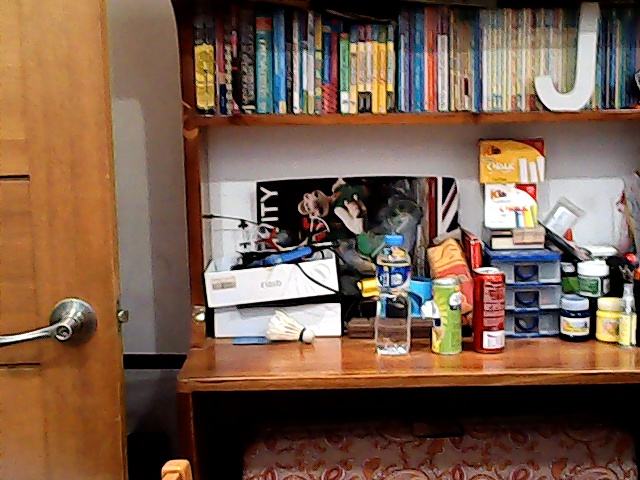Cola: (465, 263, 517, 359)
Pine Juice: (422, 277, 468, 359)
Summit Water: (371, 231, 415, 357)
